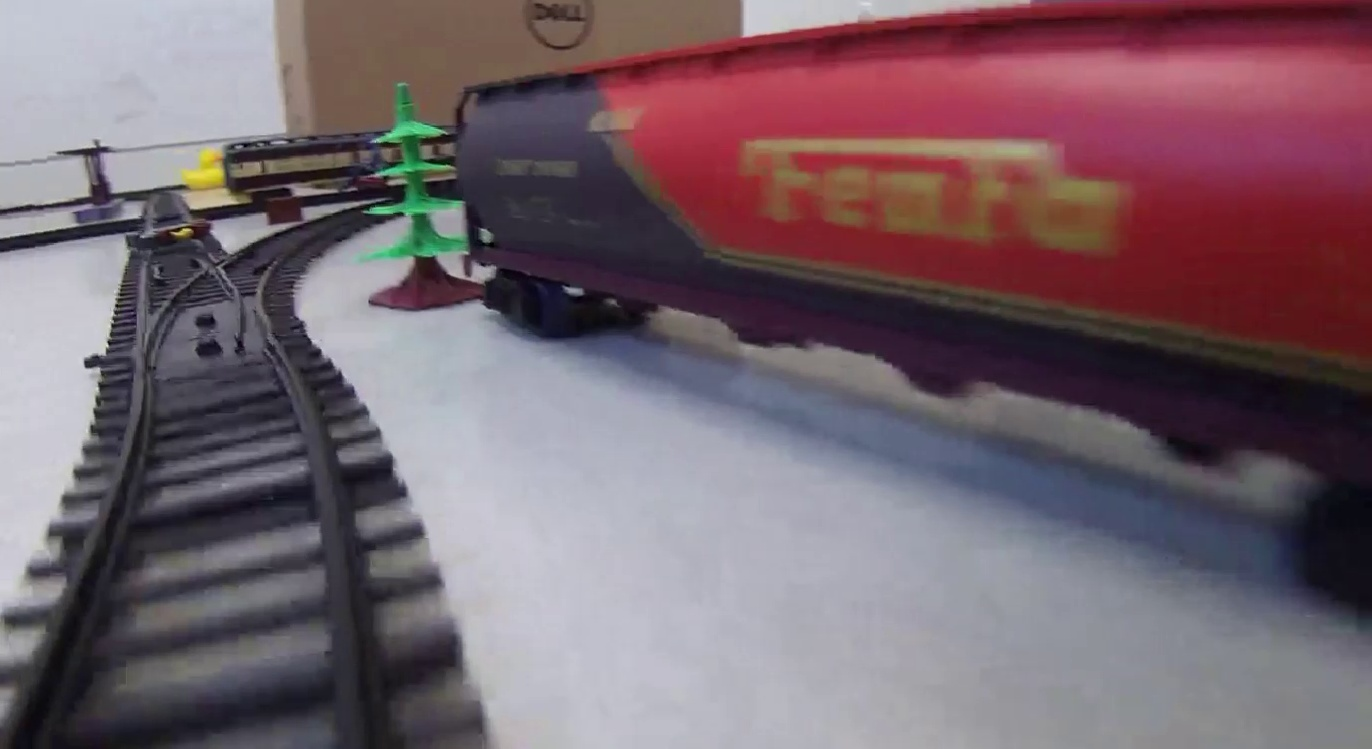tree: (359, 83, 469, 314)
